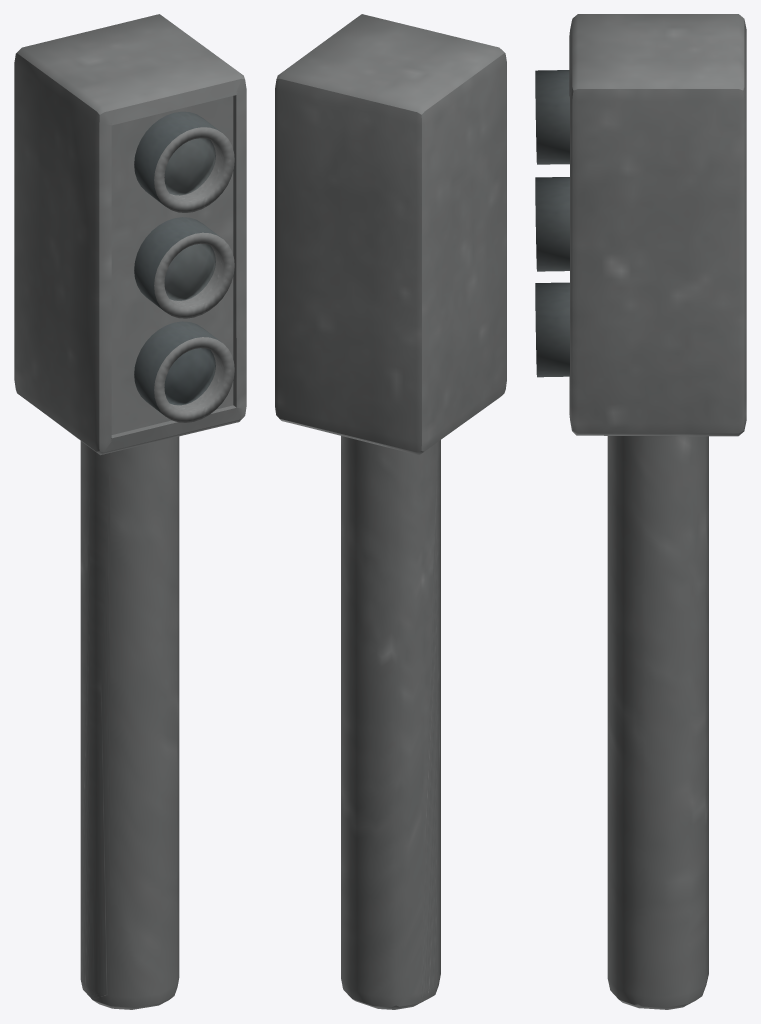
The model's file is SM_semaforo.fbx.
The picture shows the model from 3 angles, left to right: view 1: azimuth 30°, elevation 25°; view 2: azimuth 150°, elevation 25°; view 3: azimuth 270°, elevation 25°; orthographic projection.
Parts seen in each view (by area): view 1: Cube; view 2: Cube; view 3: Cube.
Boxes of the visible parts, left/top/right/bottom form: Cube: left=14, top=14, right=246, bottom=1009; Cube: left=275, top=14, right=506, bottom=1009; Cube: left=535, top=14, right=746, bottom=1009.
Size of the model in its own units: 161 by 948 by 192.
